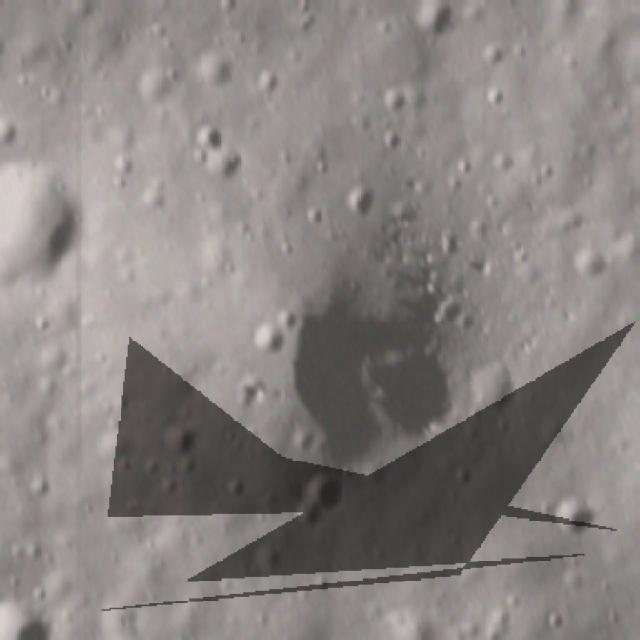crater: (354, 342, 468, 452), (288, 470, 350, 530), (0, 584, 58, 638), (548, 491, 602, 537), (192, 49, 238, 93), (413, 0, 457, 38), (156, 420, 202, 454), (249, 319, 289, 358), (569, 244, 611, 281), (250, 538, 284, 576), (537, 604, 572, 638), (478, 38, 512, 72), (376, 82, 413, 113), (345, 187, 378, 221), (254, 65, 281, 102), (138, 177, 170, 208), (110, 153, 136, 184), (223, 474, 249, 504), (26, 468, 51, 499), (193, 124, 229, 145), (292, 13, 326, 35), (311, 569, 337, 596), (447, 157, 475, 181), (112, 386, 134, 416), (372, 16, 397, 42), (491, 149, 517, 174), (376, 129, 404, 151), (316, 151, 336, 178), (479, 85, 508, 103), (162, 66, 182, 92), (488, 607, 514, 627), (304, 204, 328, 224), (112, 453, 133, 475), (192, 145, 212, 167), (59, 32, 75, 59), (39, 83, 58, 103), (15, 72, 34, 90), (32, 314, 52, 331), (598, 576, 614, 595), (218, 0, 238, 15), (293, 0, 318, 9), (614, 0, 640, 8)
